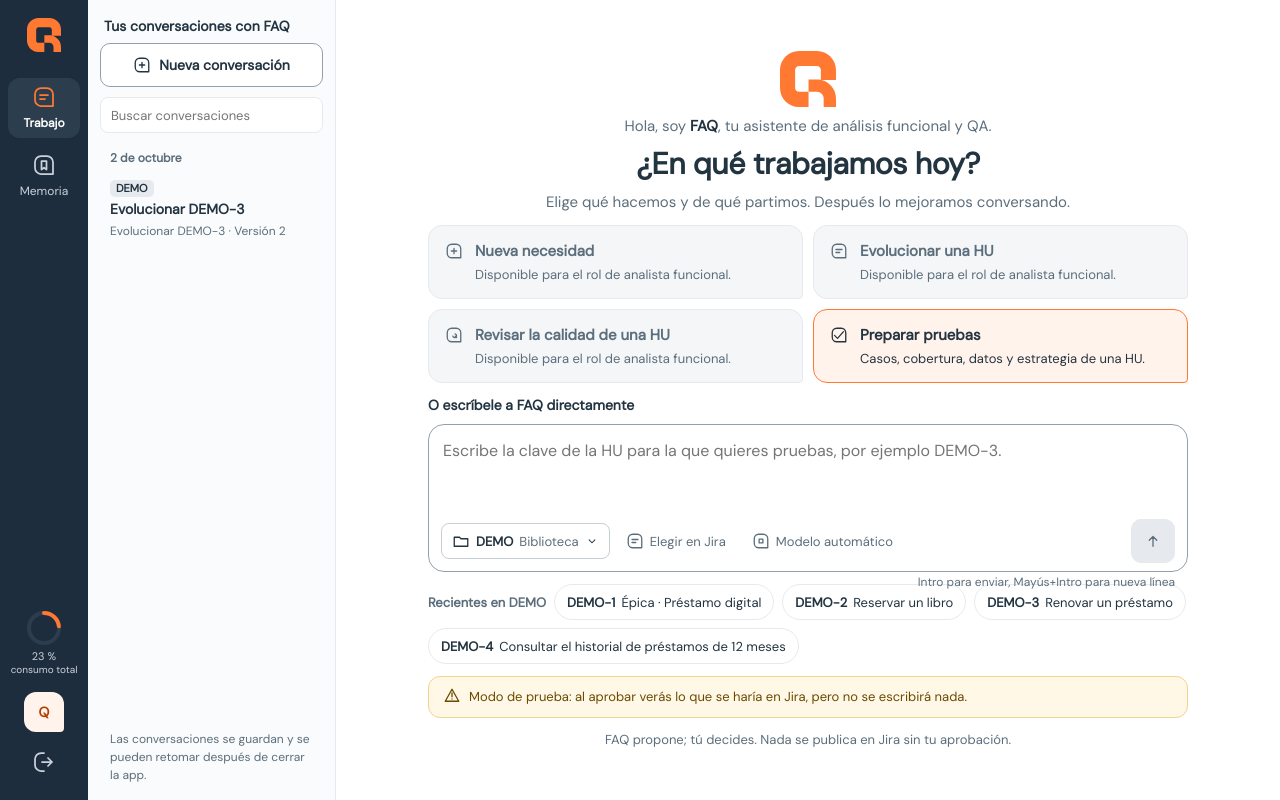
Test: QA 1 · Origen › la cabecera es «Pruebas de DEMO-3» y la operación fijada dice dónde irán los casos
This screenshot has width=1280, height=800.
Expected: the button with aria-label "Proyecto de Jira: DEMO" is shown, 441,523 -> 610,559
Click the text box at (808, 475), box 441,437 -> 1175,513
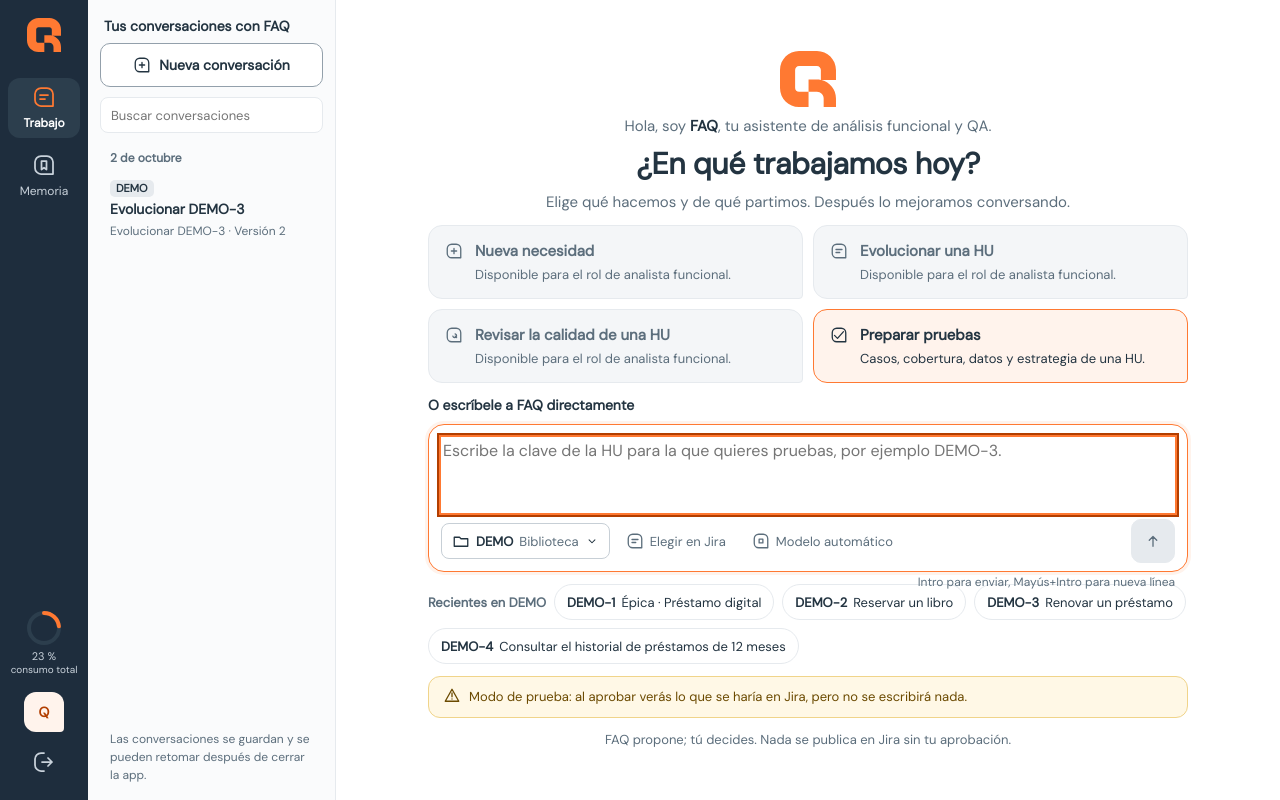
Type keys "DEMO-3"
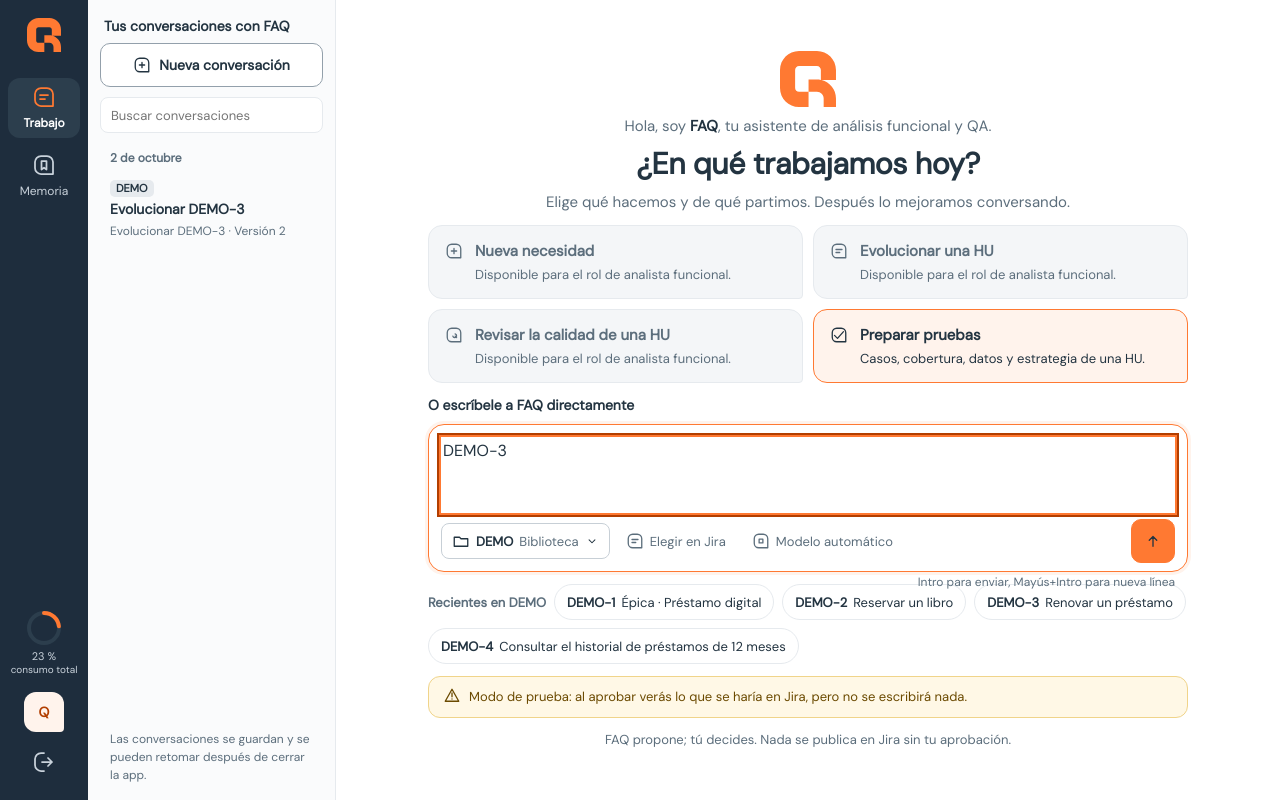
Click the button named "Continuar" at (1153, 541), box 1131,519 -> 1175,563
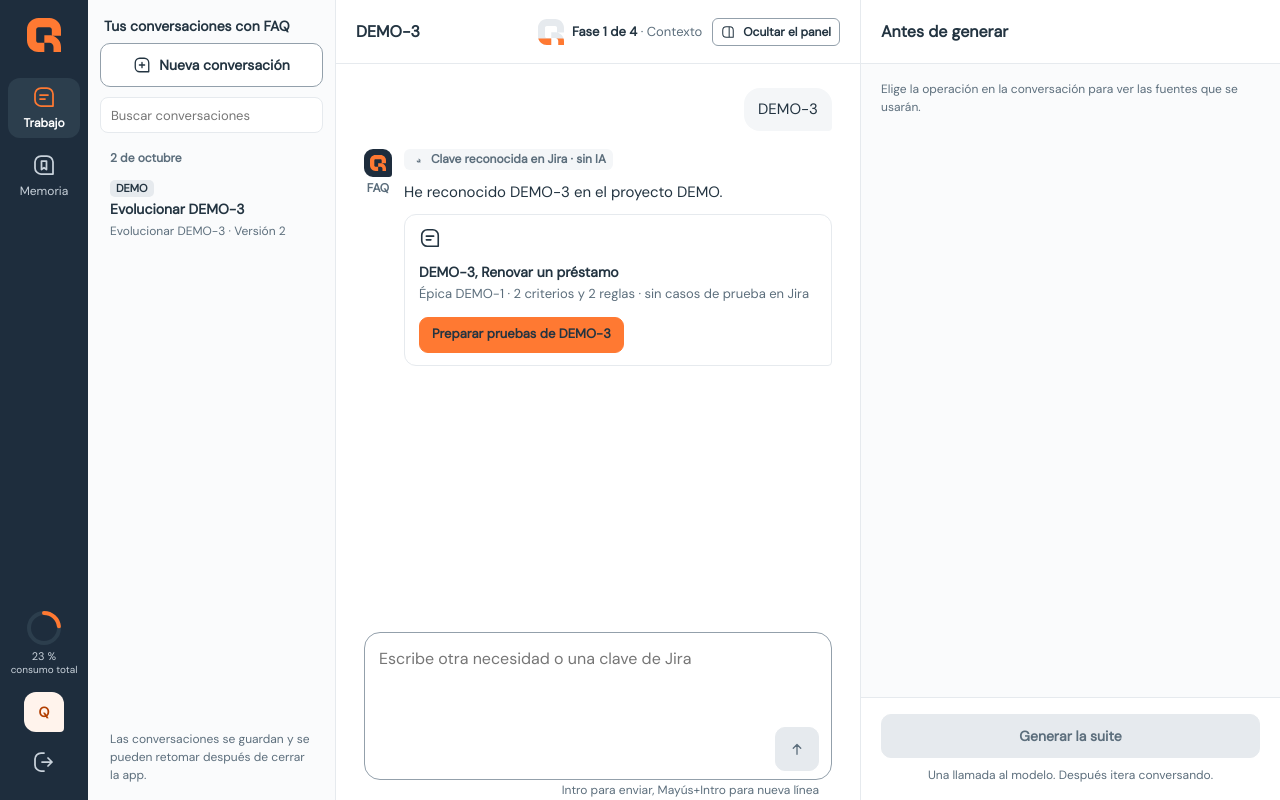
Click the button "Preparar pruebas de DEMO-3" at (521, 335), box 419,317 -> 624,353
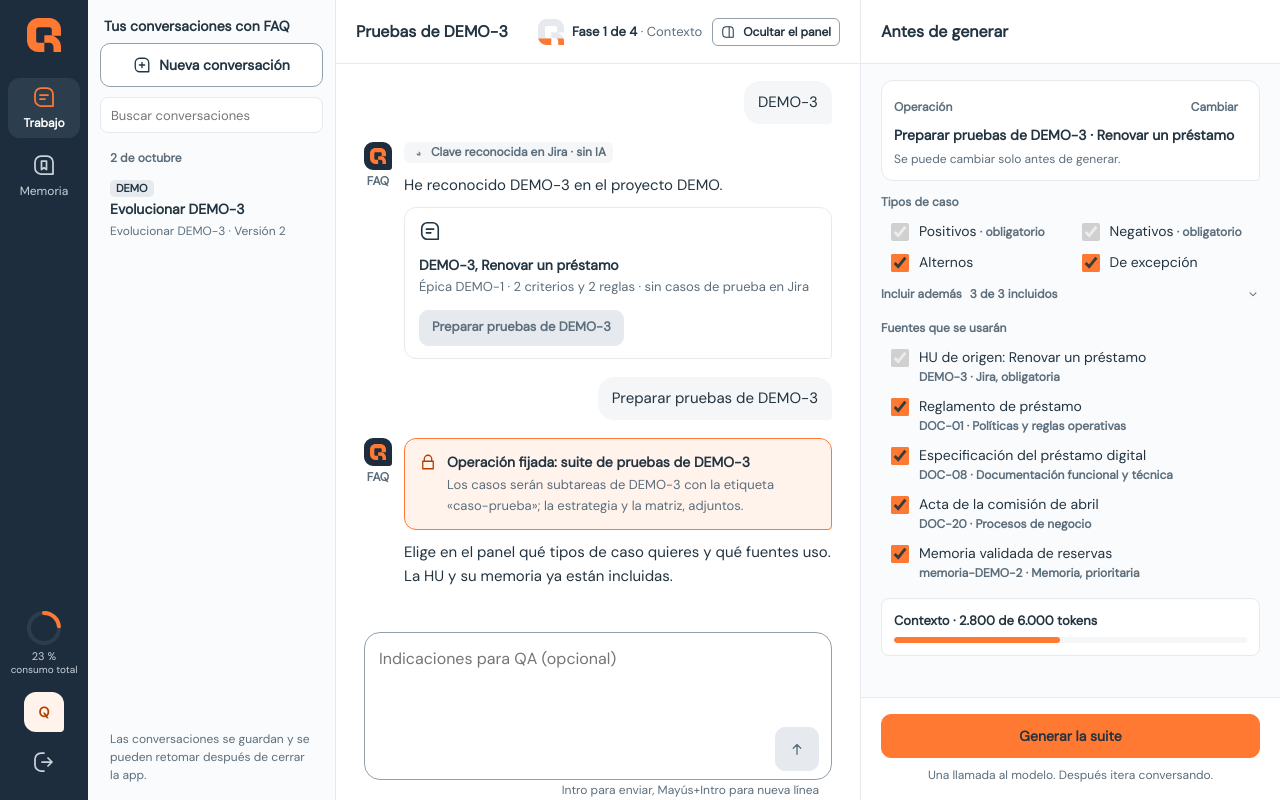
Now the checkbox labelled "HU de origen: Renovar un préstamo DEMO-3 · Jira, obligatoria" is shown, box 891,349 -> 909,367
Now the heading "Pruebas de DEMO-3" is shown, box 356,20 -> 528,44
Now the text "Operación fijada: suite de pruebas de DEMO-3" is shown, box 447,453 -> 750,471
